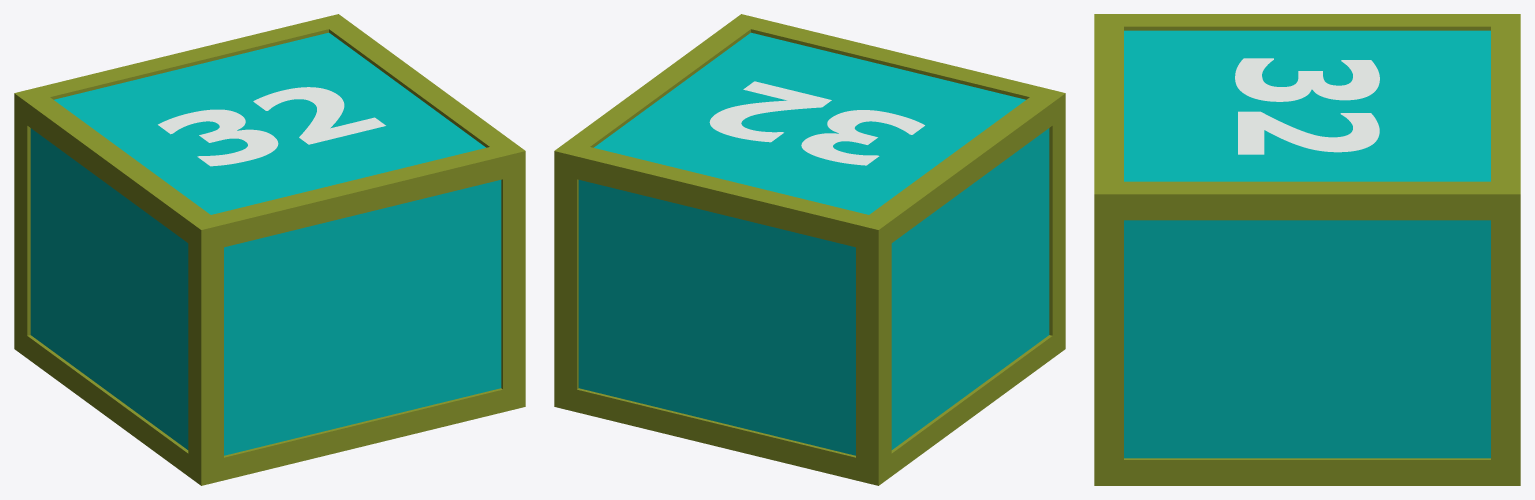
File: 32Prefab.fbx
3 views of the same model, side by side, from view 1: azimuth 30°, elevation 25°; view 2: azimuth 150°, elevation 25°; view 3: azimuth 270°, elevation 25° (orthographic). The views are drawn at different scales.
Parts seen in each view (by area): view 1: Text.004; view 2: Text.004; view 3: Text.004.
Boxes of the visible parts, x1,y1,x2,y2 form: Text.004: (14,14,525,485); Text.004: (554,14,1065,485); Text.004: (1094,14,1520,485).
Size of the model in its own units: 194 by 146 by 194.
